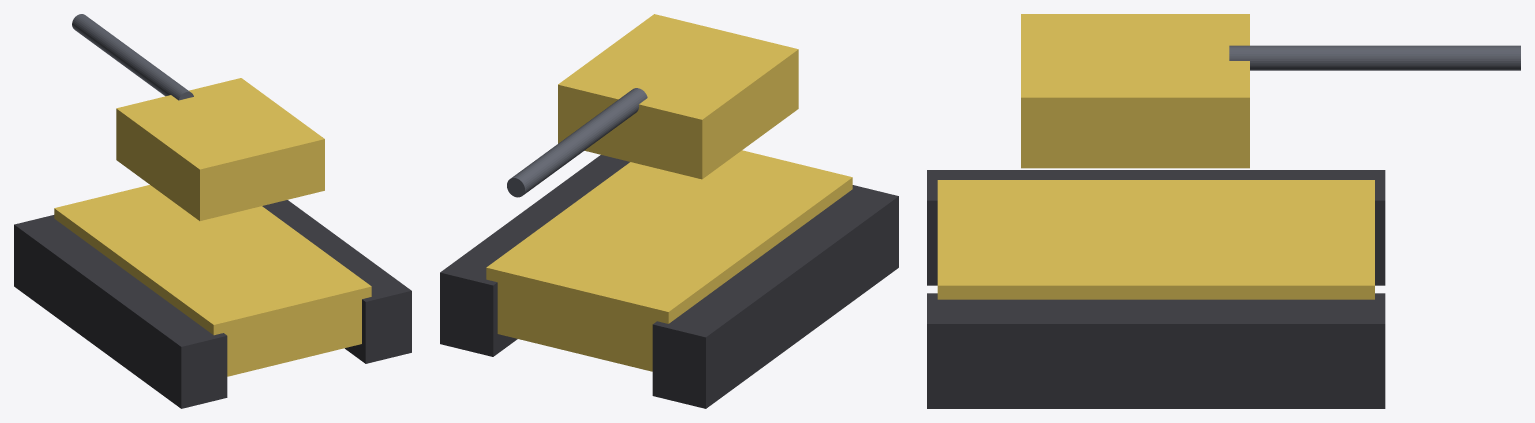
Rendered from CO_MCV_MobileNode.fbx.
3 views of the same model, side by side, from view 1: azimuth 30°, elevation 25°; view 2: azimuth 150°, elevation 25°; view 3: azimuth 270°, elevation 25° (orthographic). The views are drawn at different scales.
Visible parts, largest first — view 1: Cube, Cube.003, Cube.001, Cube.002, Cylinder; view 2: Cube, Cube.003, Cube.001, Cube.002, Cylinder; view 3: Cube, Cube.002, Cube.003, Cylinder, Cube.001.
Part boxes in pixels (bbox=[...]): Cube: bbox=[54, 185, 371, 376]; Cube.003: bbox=[116, 78, 324, 220]; Cube.001: bbox=[14, 215, 227, 408]; Cube.002: bbox=[262, 200, 411, 363]; Cylinder: bbox=[72, 14, 193, 100]; Cube: bbox=[486, 150, 852, 371]; Cube.003: bbox=[558, 14, 798, 179]; Cube.001: bbox=[652, 185, 898, 408]; Cube.002: bbox=[440, 155, 629, 356]; Cylinder: bbox=[507, 88, 647, 197]; Cube: bbox=[937, 180, 1374, 299]; Cube.002: bbox=[927, 293, 1385, 408]; Cube.003: bbox=[1021, 14, 1249, 168]; Cylinder: bbox=[1229, 45, 1520, 70]; Cube.001: bbox=[927, 170, 1385, 285].
Size of the model in its own units: 350 by 302 by 570.
